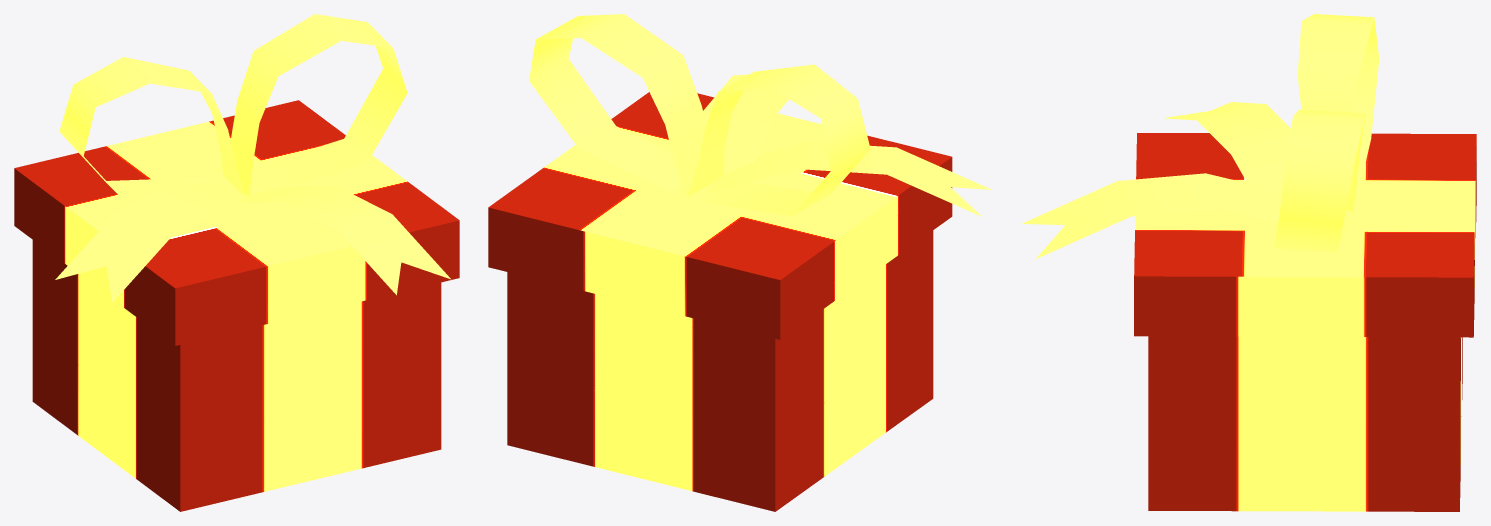
Rendered from Present01_Art.fbx.
3 views of the same model, side by side, from view 1: azimuth 30°, elevation 25°; view 2: azimuth 150°, elevation 25°; view 3: azimuth 270°, elevation 25° (orthographic). The views are drawn at different scales.
Parts seen in each view (by area): view 1: Present01_Art; view 2: Present01_Art; view 3: Present01_Art.
Part boxes in pixels (box(x1,y1,x2,y2)): Present01_Art: box(14, 14, 459, 511); Present01_Art: box(488, 14, 991, 511); Present01_Art: box(1022, 14, 1476, 511).
Bounding box in the file's own units: 1.21 × 1.1 × 1.2.
